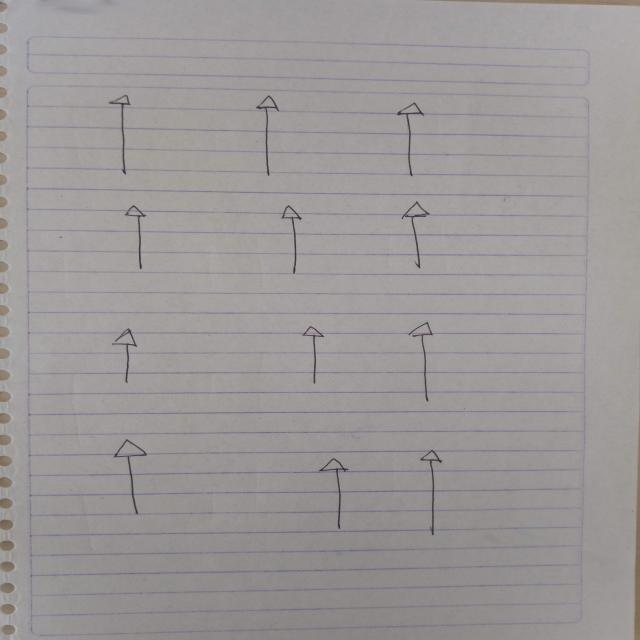arrow_line_up: (308, 448, 372, 547), (407, 448, 450, 547), (100, 86, 144, 178), (104, 440, 149, 524), (404, 321, 446, 405), (395, 199, 438, 271), (390, 99, 432, 172), (100, 328, 154, 384), (249, 96, 285, 178), (274, 206, 314, 278), (120, 203, 158, 278), (296, 320, 328, 394)
